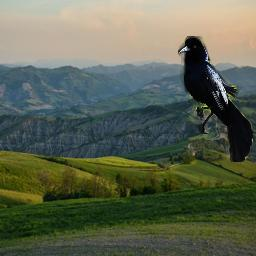Crow: (178, 36, 253, 162)
